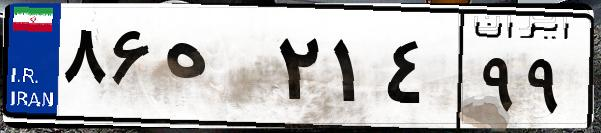1: (330, 28, 385, 110)
2: (270, 28, 330, 110)
4: (385, 28, 445, 110)
6: (110, 28, 158, 98)
8: (57, 26, 110, 100)
9: (475, 38, 525, 113), (525, 38, 570, 115)
ه: (158, 20, 270, 120)
